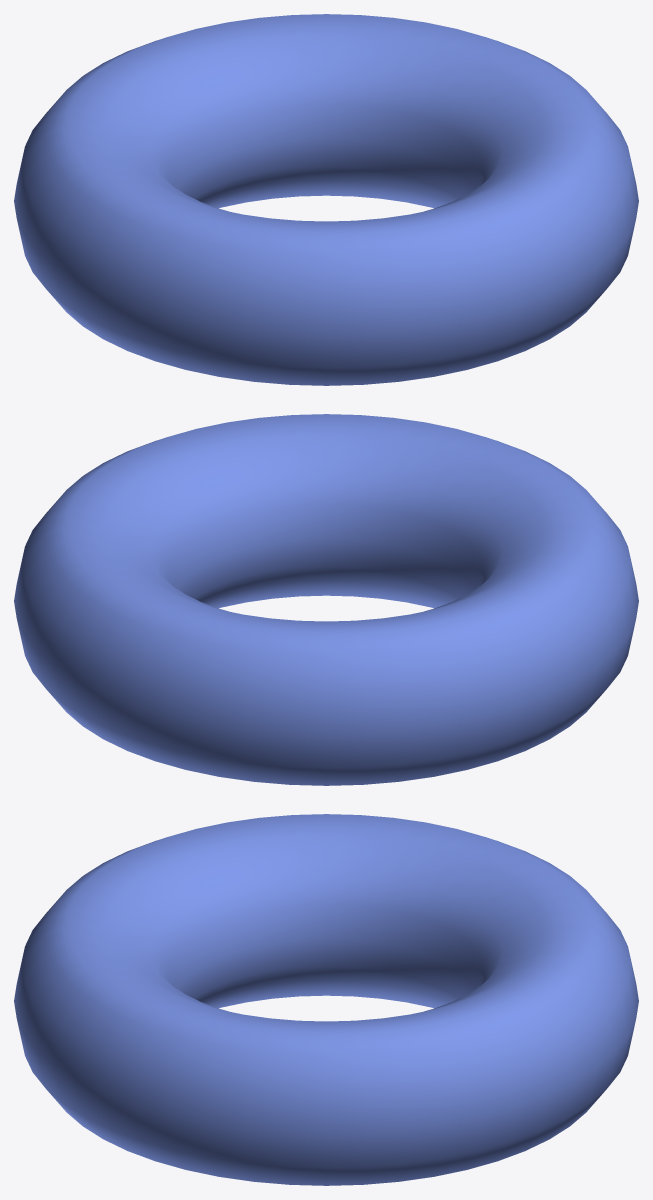
The model's file is boia3.fbx.
3 views of the same model, one above another, from view 1: azimuth 30°, elevation 25°; view 2: azimuth 150°, elevation 25°; view 3: azimuth 270°, elevation 25° (orthographic).
Visible parts, largest first — view 1: Torus; view 2: Torus; view 3: Torus.
Boxes of the visible parts, x1,y1,x2,y2 form: Torus: [14, 14, 638, 385]; Torus: [14, 414, 638, 785]; Torus: [14, 814, 638, 1185].
Size of the model in its own units: 126 by 35.79 by 126.
